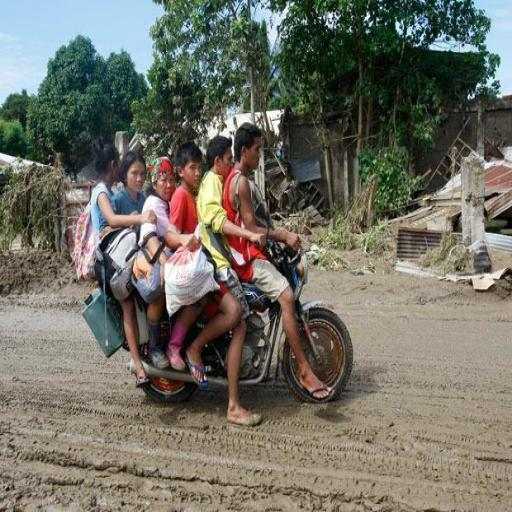no helmet: (190, 114, 253, 217)
triple riding: (71, 88, 373, 418)
